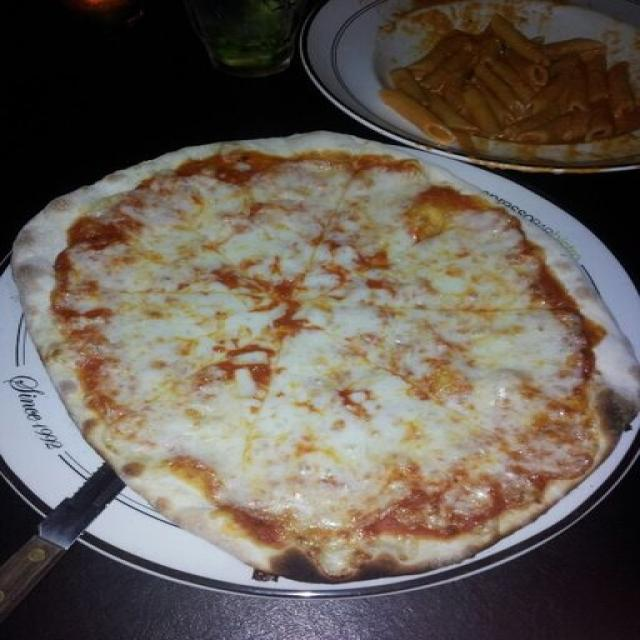Pizza: (10, 138, 637, 586)
